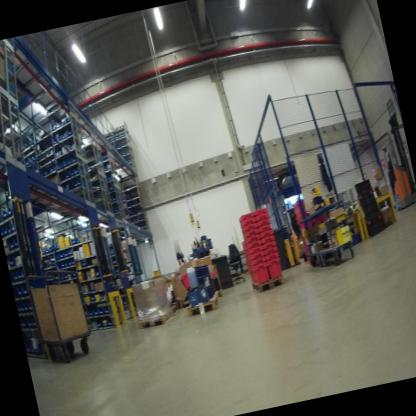forklift: (370, 105, 416, 216), (276, 196, 311, 267)
pallet: (132, 302, 181, 332), (185, 290, 224, 319), (250, 269, 287, 294), (178, 295, 195, 309), (211, 286, 225, 300), (173, 299, 182, 313)
small_load_carrier: (264, 255, 286, 281), (250, 263, 270, 285), (178, 269, 195, 292), (246, 248, 266, 260), (246, 245, 265, 256), (243, 233, 262, 244), (240, 222, 258, 232), (248, 256, 267, 265), (244, 240, 263, 249), (238, 210, 255, 220), (242, 228, 260, 237), (239, 216, 257, 225), (255, 211, 271, 221), (263, 245, 279, 255), (259, 222, 273, 232), (261, 234, 275, 243), (262, 240, 277, 248), (256, 218, 272, 225), (260, 229, 274, 237), (254, 207, 269, 214), (265, 252, 279, 259)
